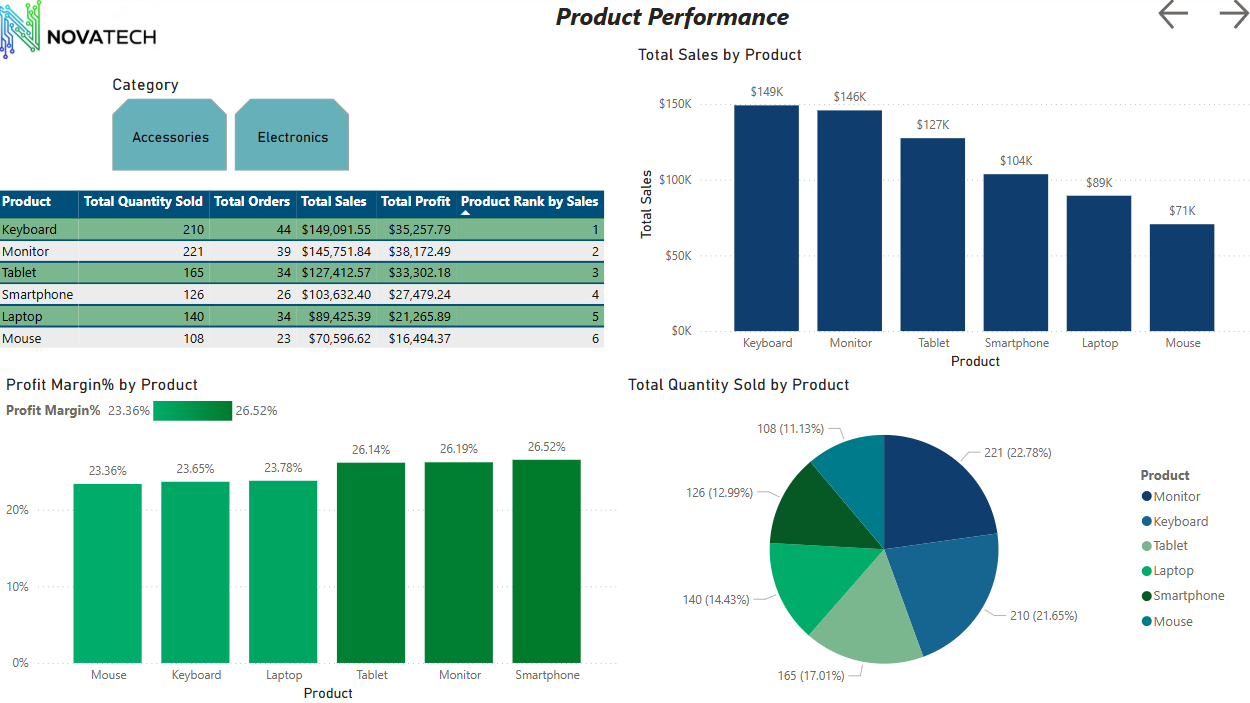

The dashboard page shown, as its layout file describes it:
{"tool":"powerbi","page":{"name":"Product Performance","canvas":[1280,720],"ordinal":3},"visuals":[{"type":"columnChart","fields":{"Category":["Product_Table.Product"],"Y":["Key Measures.Total Sales"]},"box":[650.1,52.1,629.9,333],"z":0},{"type":"clusteredColumnChart","fields":{"Category":["Product_Table.Product"],"Y":["Key Measures.Profit Margin%"]},"box":[10.1,385.5,630.1,335.2],"z":1000},{"type":"tableEx","fields":{"Values":["Product_Table.Product","Key Measures.Total Quantity Sold","Key Measures.Total Orders","Key Measures.Total Sales","Key Measures.Total Profit","Key Measures.Product Rank by Sales"]},"box":[0,194.2,650.2,191.3],"z":2000},{"type":"pieChart","fields":{"Y":["Key Measures.Total Quantity Sold"],"Category":["Product_Table.Product"]},"box":[640.2,385.5,624.3,335.2],"z":3000},{"type":"advancedSlicerVisual","fields":{"Values":["Product_Table.Category"]},"box":[118,82,374,102.1],"z":4000},{"type":"textbox","box":[566.1,0,265,50.7],"z":5000},{"type":"actionButton","box":[1238.6,0,41.7,40.3],"z":6000},{"type":"actionButton","box":[1178.2,0,47.5,40.3],"z":7000},{"type":"image","box":[0,0,175.2,70.9],"z":8000}]}

Visuals, with their boxes in screenshot pixels (x1, y1, x2, y2), scaled from the page's 1280x720 canvas onto the 1250x703 screenshot:
columnChart - Product_Table.Product x Key Measures.Total Sales: BBox(635, 51, 1249, 376)
clusteredColumnChart - Product_Table.Product x Key Measures.Profit Margin%: BBox(10, 376, 625, 702)
tableEx - Product_Table.Product x Key Measures.Total Quantity Sold: BBox(0, 190, 635, 376)
pieChart - Key Measures.Total Quantity Sold x Product_Table.Product: BBox(625, 376, 1235, 702)
advancedSlicerVisual - Product_Table.Category: BBox(115, 80, 480, 180)
textbox: BBox(553, 0, 812, 50)
actionButton: BBox(1210, 0, 1249, 39)
actionButton: BBox(1151, 0, 1197, 39)
image: BBox(0, 0, 171, 69)
